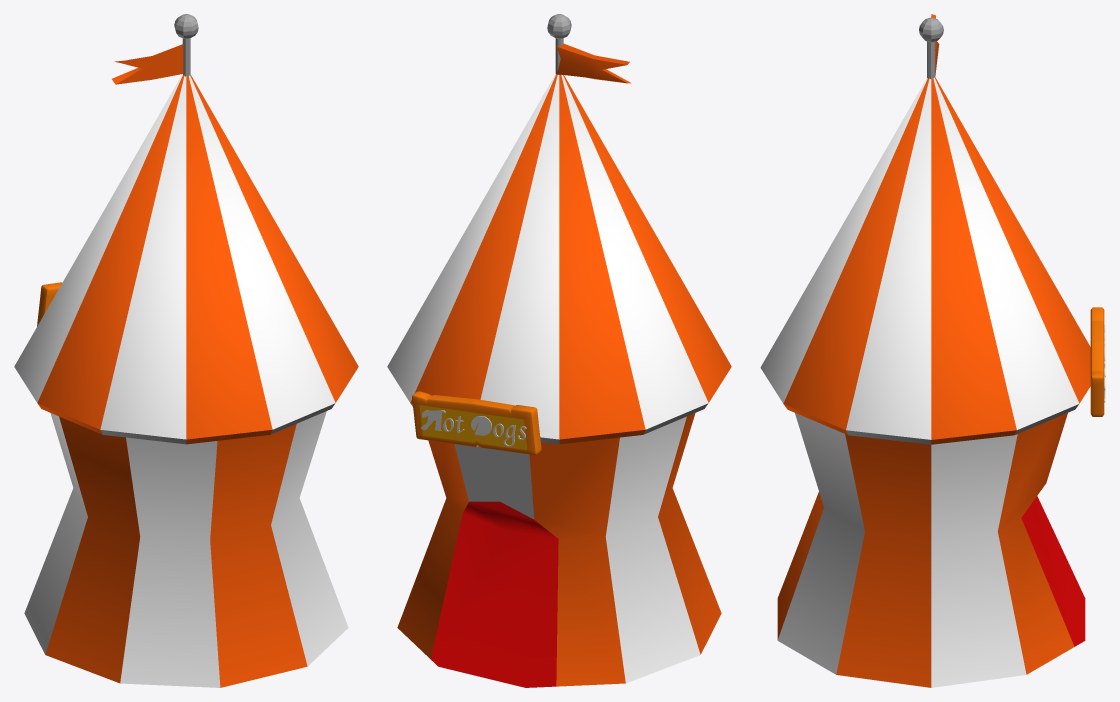
The model's file is SmallHotDogTent.fbx.
3 views of the same model, side by side, from view 1: azimuth 30°, elevation 25°; view 2: azimuth 150°, elevation 25°; view 3: azimuth 270°, elevation 25° (orthographic).
Visible parts, largest first — view 1: CircusTentTop, CircusTentBody, Flag; view 2: CircusTentTop, CircusTentBody, HotDogSign, Flag, typeMesh1; view 3: CircusTentTop, CircusTentBody, HotDogSign.
Boxes of the visible parts, bbox=[...] form: CircusTentTop: bbox=[14, 74, 358, 444]; CircusTentBody: bbox=[24, 411, 348, 687]; Flag: bbox=[112, 44, 183, 84]; CircusTentTop: bbox=[387, 74, 731, 444]; CircusTentBody: bbox=[397, 413, 721, 687]; HotDogSign: bbox=[412, 391, 541, 454]; Flag: bbox=[556, 43, 631, 83]; typeMesh1: bbox=[421, 410, 526, 446]; CircusTentTop: bbox=[760, 77, 1090, 444]; CircusTentBody: bbox=[777, 413, 1085, 687]; HotDogSign: bbox=[1090, 307, 1105, 416].
Size of the model in its own units: 3.86 by 7.48 by 3.89.
